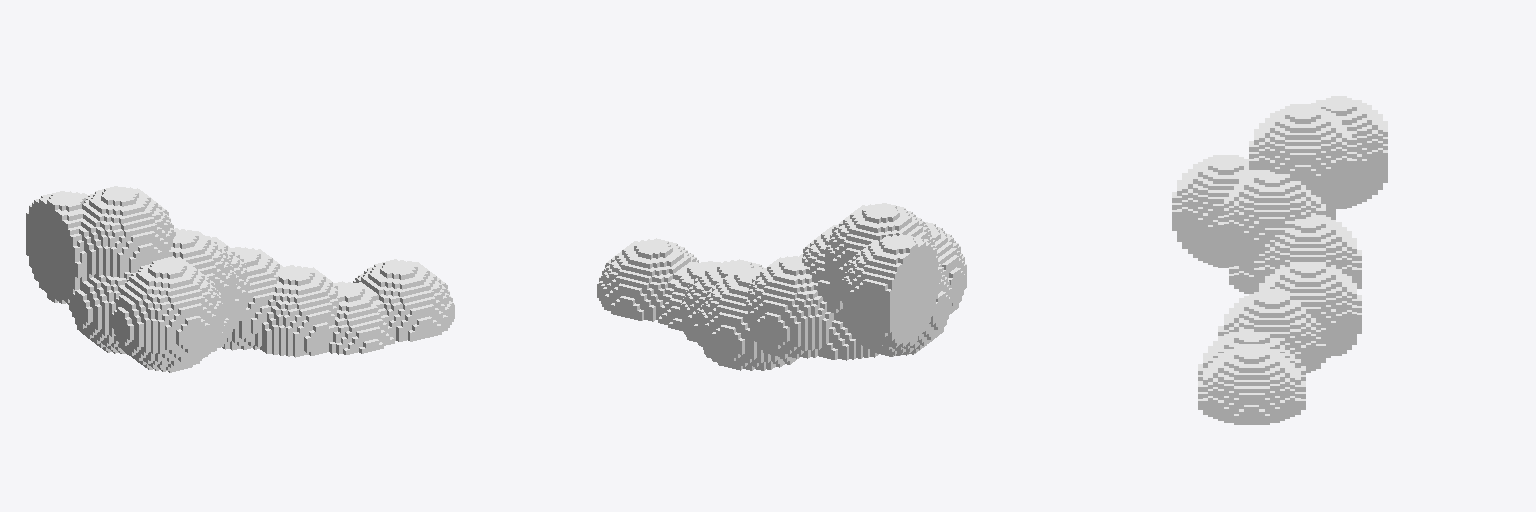
The model's file is maps1demo-0.obj.
3 views of the same model, side by side, from view 1: azimuth 30°, elevation 25°; view 2: azimuth 150°, elevation 25°; view 3: azimuth 270°, elevation 25° (orthographic).
Parts seen in each view (by area): view 1: object 1; view 2: object 1; view 3: object 1.
Part boxes in pixels (x1,y1,x2,y2): object 1: (26,186,454,372); object 1: (597,203,966,370); object 1: (1172,96,1387,424).
Size of the model in its own units: 7.9 by 3.6 by 4.2.